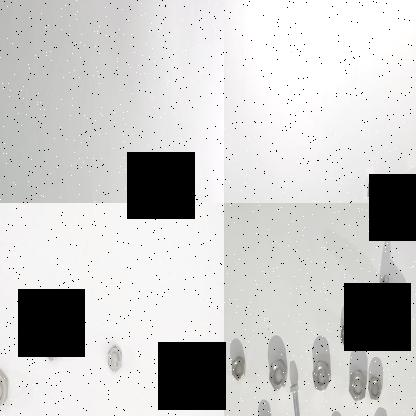Bolts: (376, 272, 406, 313), (288, 378, 302, 416)
NUTS: (30, 311, 66, 381), (100, 328, 126, 388), (310, 356, 332, 392), (0, 352, 12, 416), (347, 368, 369, 402), (267, 356, 287, 390), (366, 372, 384, 402), (340, 320, 356, 353), (228, 354, 248, 380), (365, 174, 382, 203), (405, 169, 416, 203)
